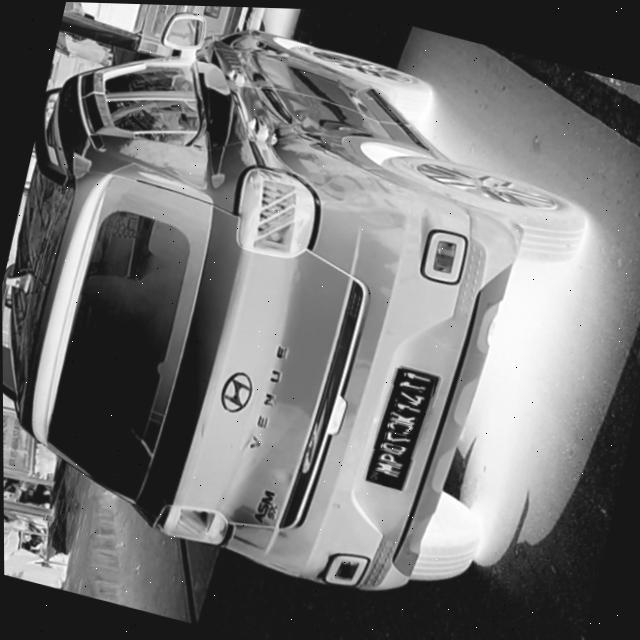0: (381, 438, 407, 451)
1: (404, 366, 432, 381), (394, 397, 421, 412), (402, 377, 429, 390)
4: (397, 386, 425, 401)
7: (383, 427, 411, 442)
C: (387, 417, 413, 431)
IND: (368, 466, 391, 481)
Indian_registered: (365, 365, 436, 486)
K: (390, 407, 417, 422)
M: (375, 458, 401, 471)
P: (378, 447, 404, 462)
